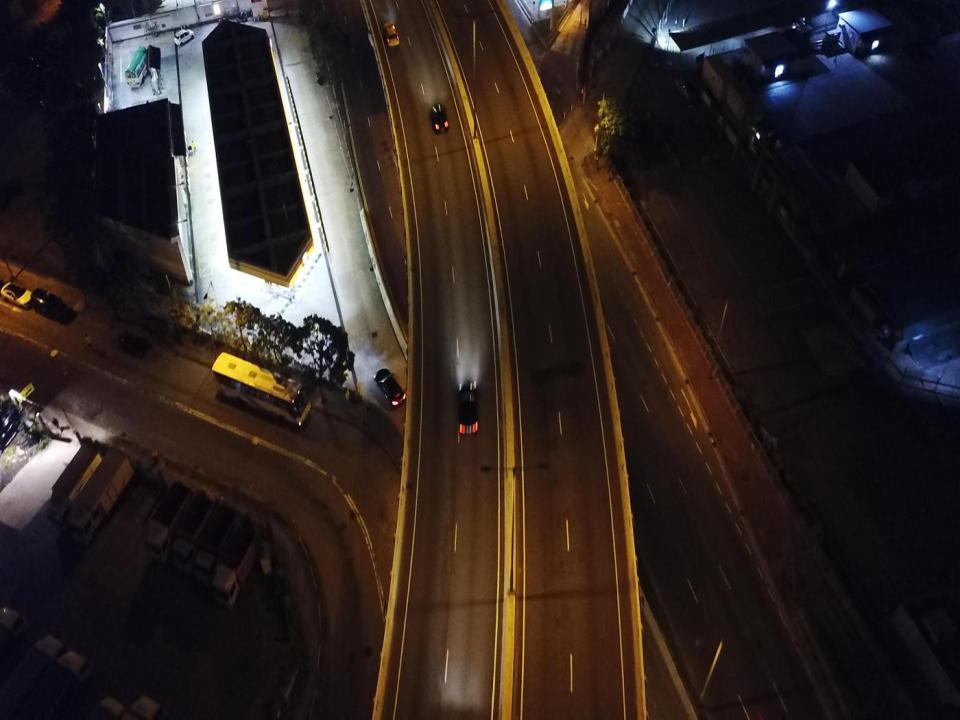bus: (212, 352, 311, 429), (125, 46, 150, 88)
car: (374, 367, 406, 407), (0, 401, 21, 461), (458, 383, 478, 435), (1, 281, 34, 310), (118, 334, 151, 358), (432, 103, 448, 132), (173, 28, 195, 46), (385, 20, 399, 47)
truck: (68, 446, 136, 547), (9, 650, 92, 719), (0, 634, 68, 716), (48, 443, 103, 535), (214, 521, 262, 611), (193, 502, 240, 586), (146, 480, 193, 564), (171, 492, 214, 574)
van: (31, 288, 66, 319)
